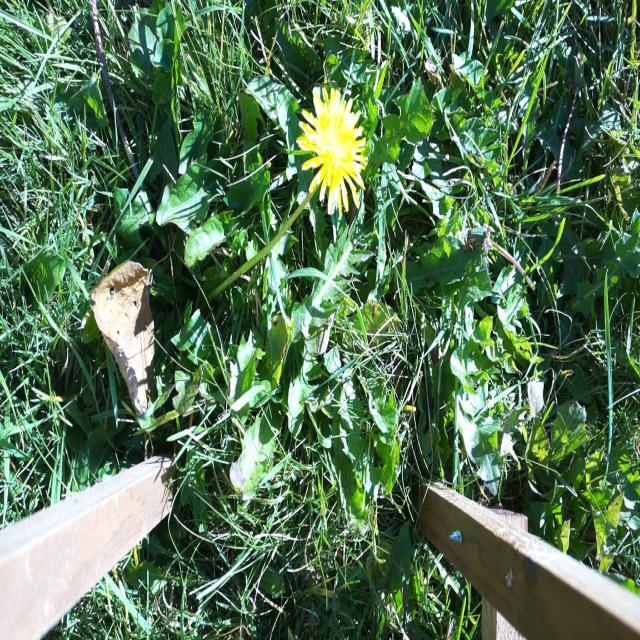base: (196, 278, 220, 316)
flower: (300, 86, 366, 215)
